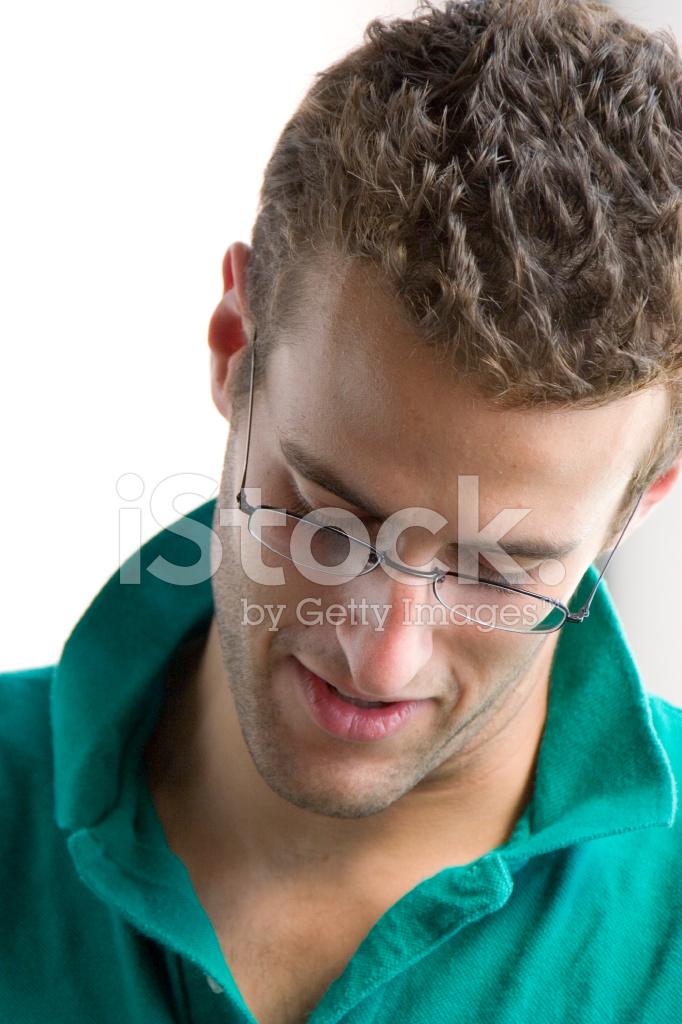human: (4, 2, 682, 1024)
